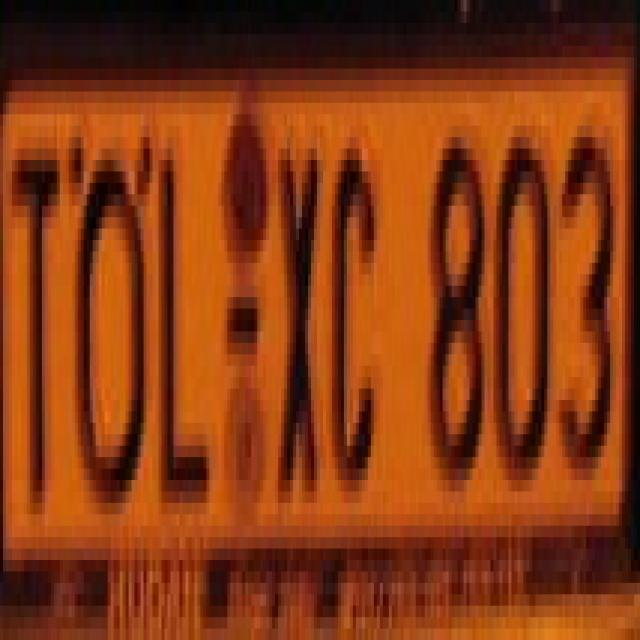0: (494, 114, 550, 469)
3: (556, 114, 616, 492)
8: (428, 114, 482, 492)
C: (335, 126, 383, 503)
L: (156, 126, 207, 503)
T: (6, 114, 57, 514)
X: (269, 137, 323, 514)
